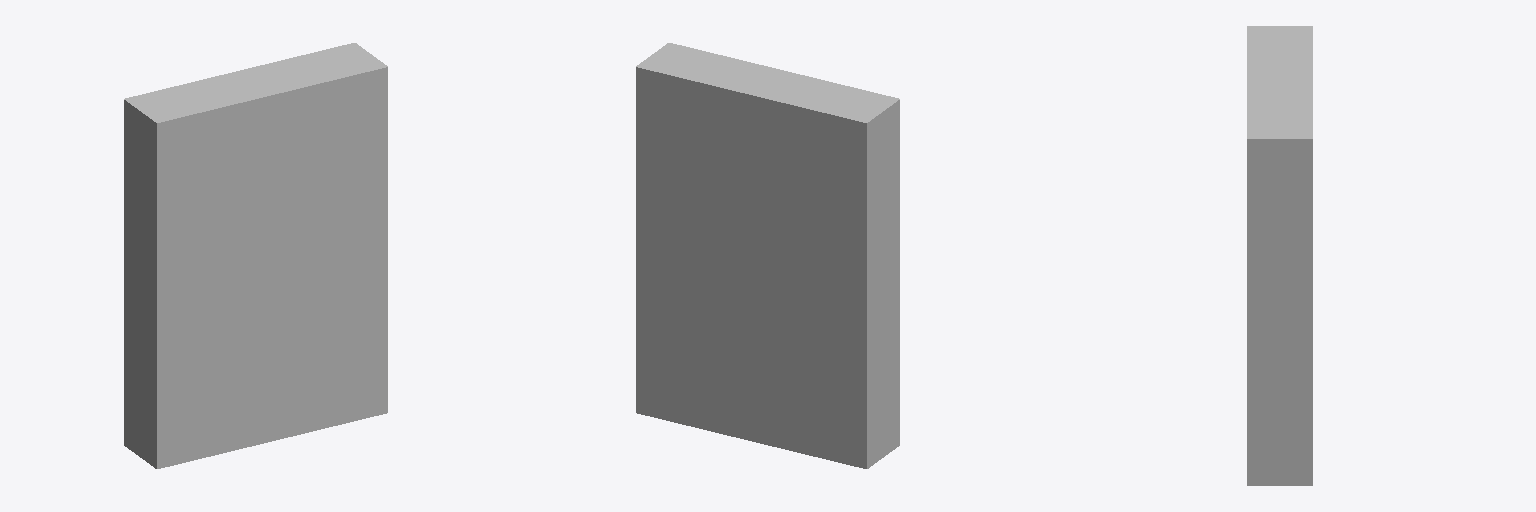
File: gate.obj
3 renders of one model, left to right at view 1: azimuth 30°, elevation 25°; view 2: azimuth 150°, elevation 25°; view 3: azimuth 270°, elevation 25°, orthographic.
Visible parts, largest first — view 1: object 1; view 2: object 1; view 3: object 1.
Boxes of the visible parts, x1,y1,x2,y2 form: object 1: [124, 43, 387, 468]; object 1: [636, 43, 899, 468]; object 1: [1247, 26, 1312, 485].
Bounding box in the file's own units: 2.8 × 4 × 0.7.